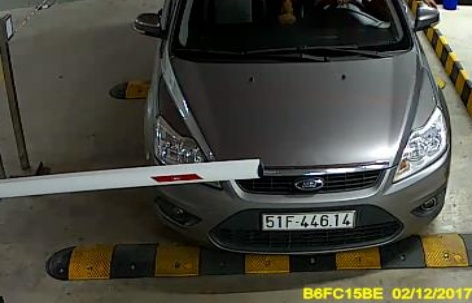plate: (257, 208, 363, 238)
